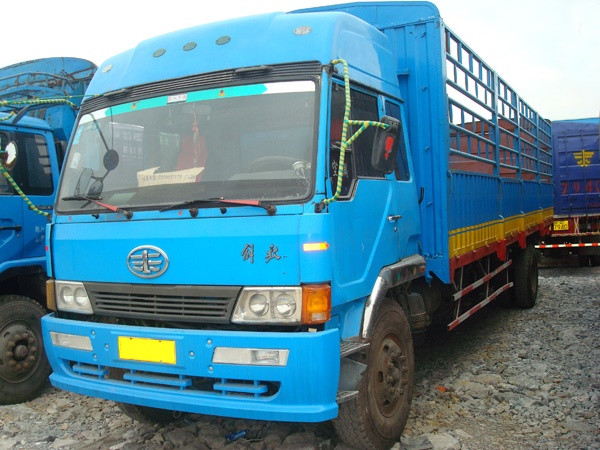truck: (46, 10, 564, 442)
